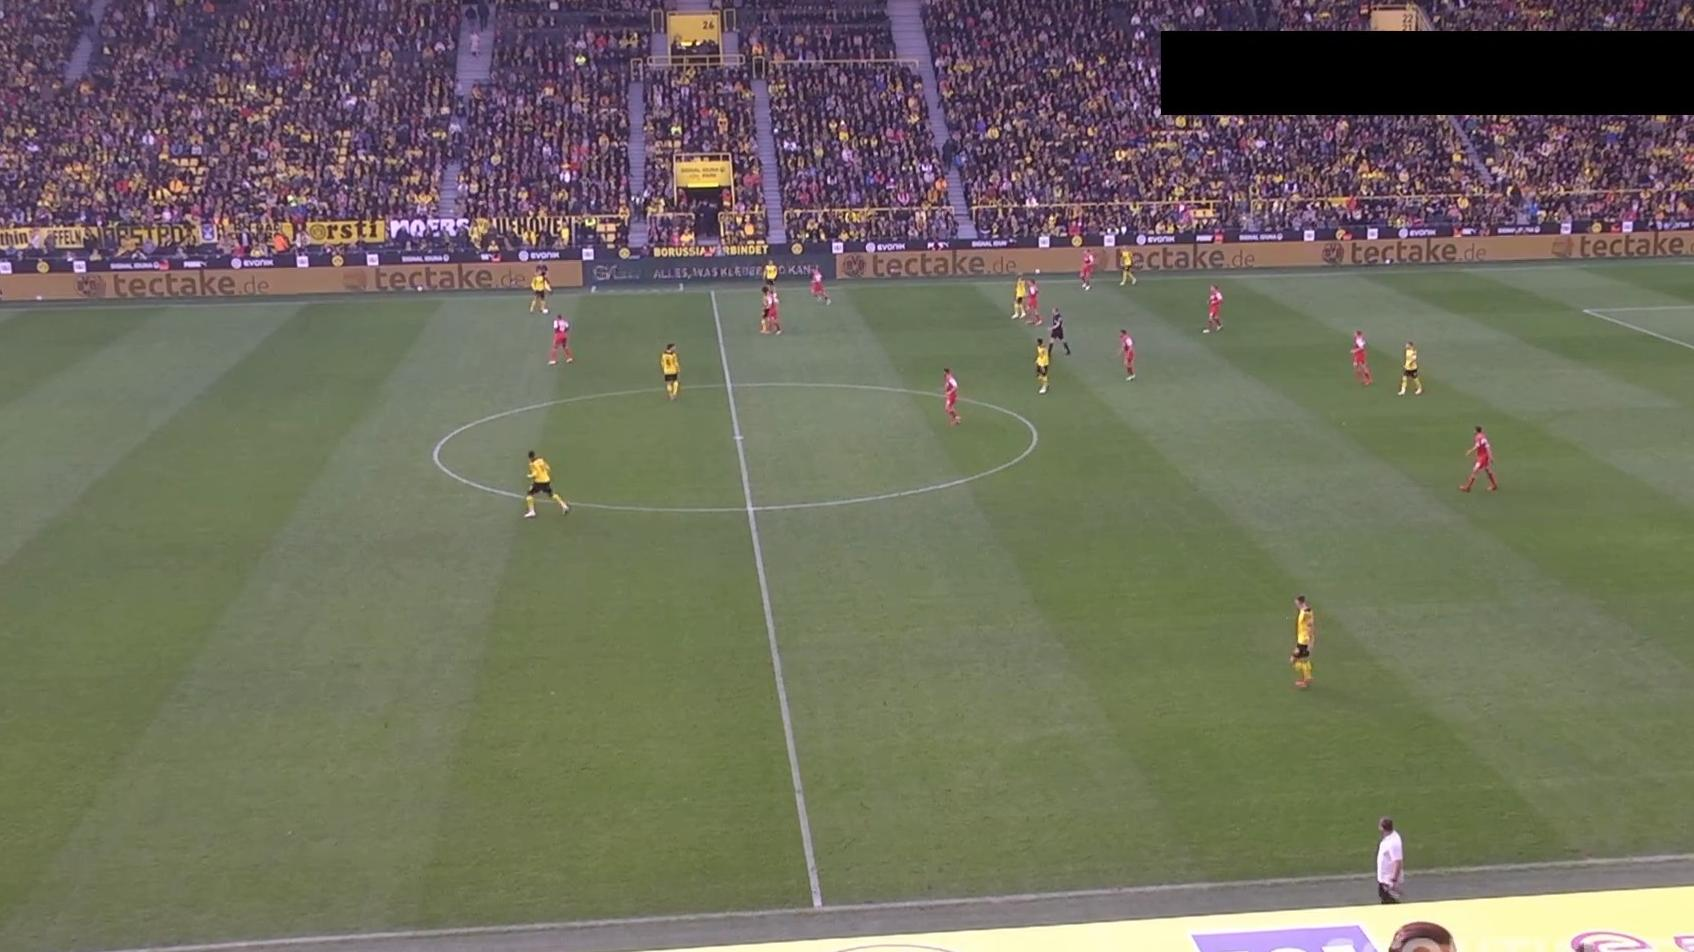ball: (541, 306, 550, 315)
